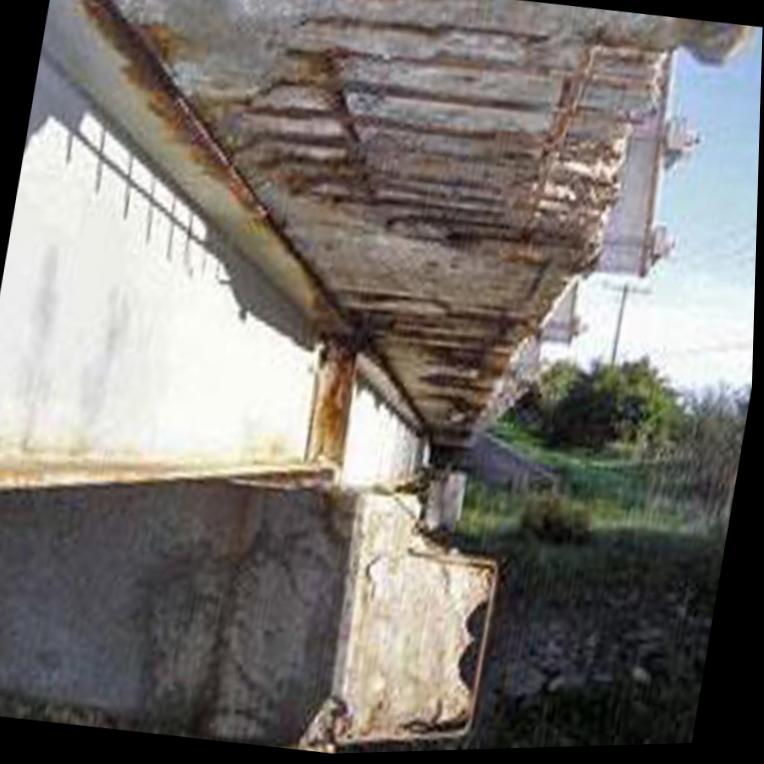damage: (112, 0, 722, 446)
